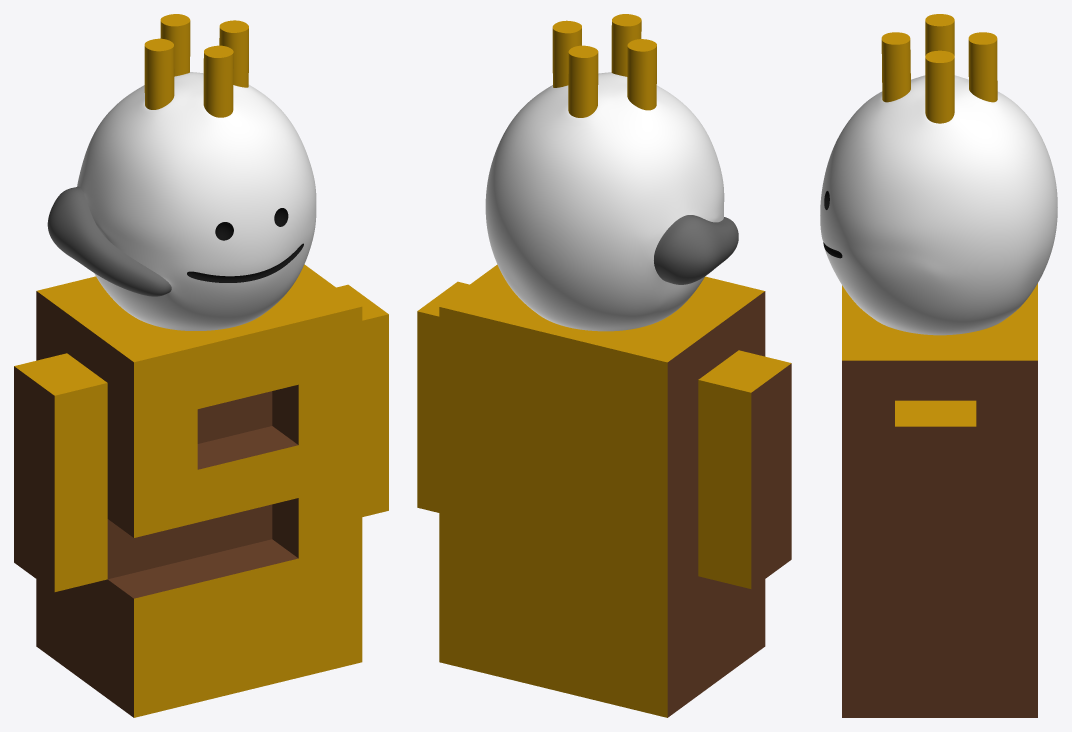
The model's file is 9_guy.fbx.
3 views of the same model, side by side, from view 1: azimuth 30°, elevation 25°; view 2: azimuth 150°, elevation 25°; view 3: azimuth 270°, elevation 25° (orthographic).
Parts seen in each view (by area): view 1: _9; view 2: _9; view 3: _9.
Boxes of the visible parts, box(x1,y1,x2,y2) form: _9: box(14, 14, 388, 717); _9: box(417, 14, 791, 717); _9: box(820, 14, 1057, 717).
Size of the model in its own units: 373 by 661 by 229.
